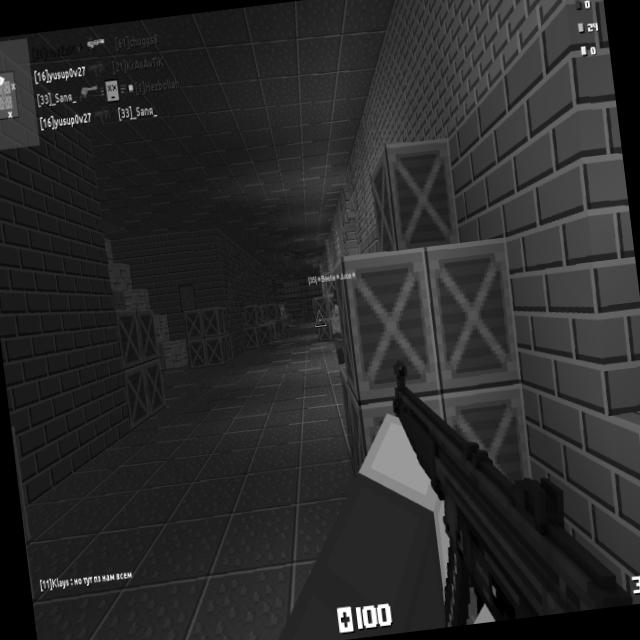enemy: (278, 302, 289, 328)
